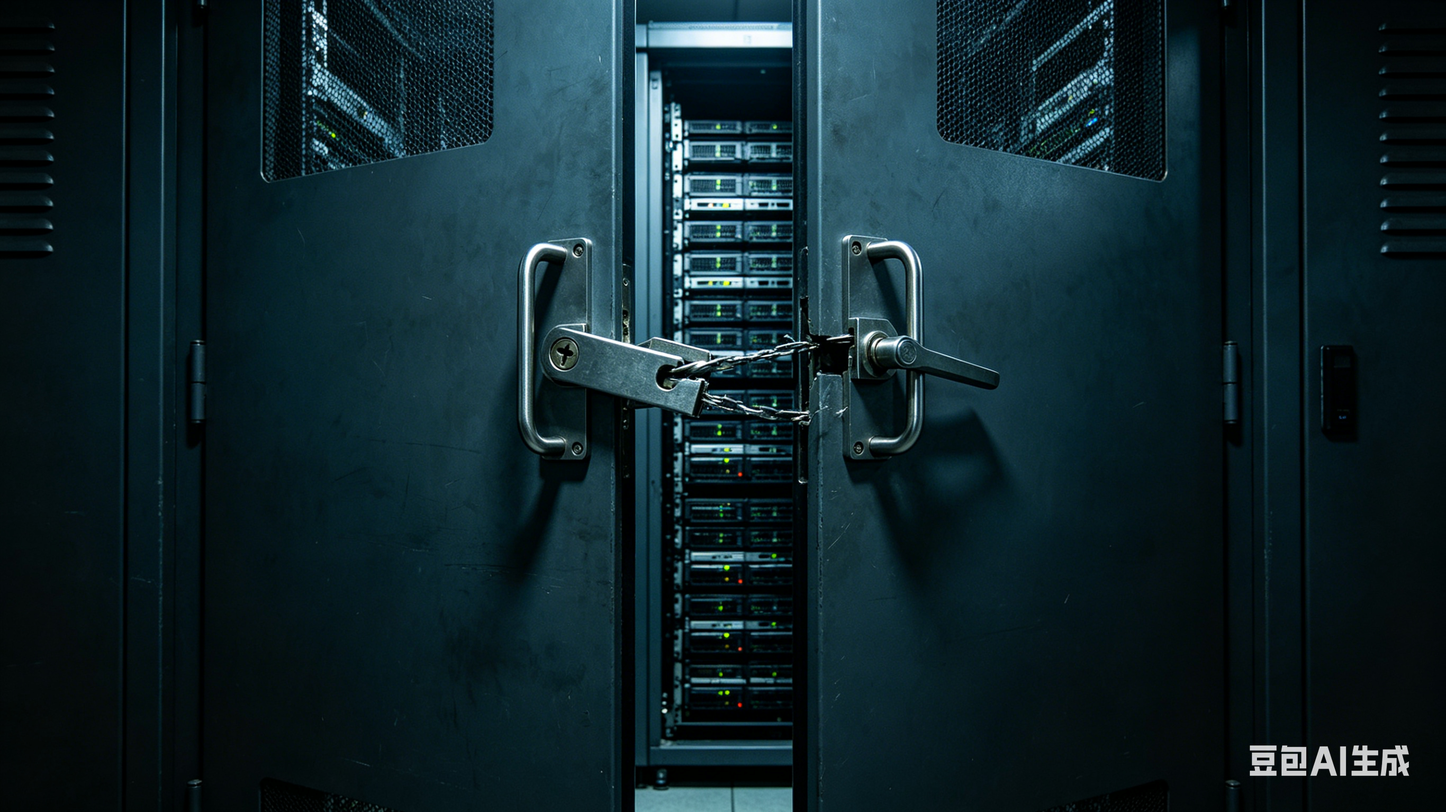BadLock: (606, 307, 902, 436)
